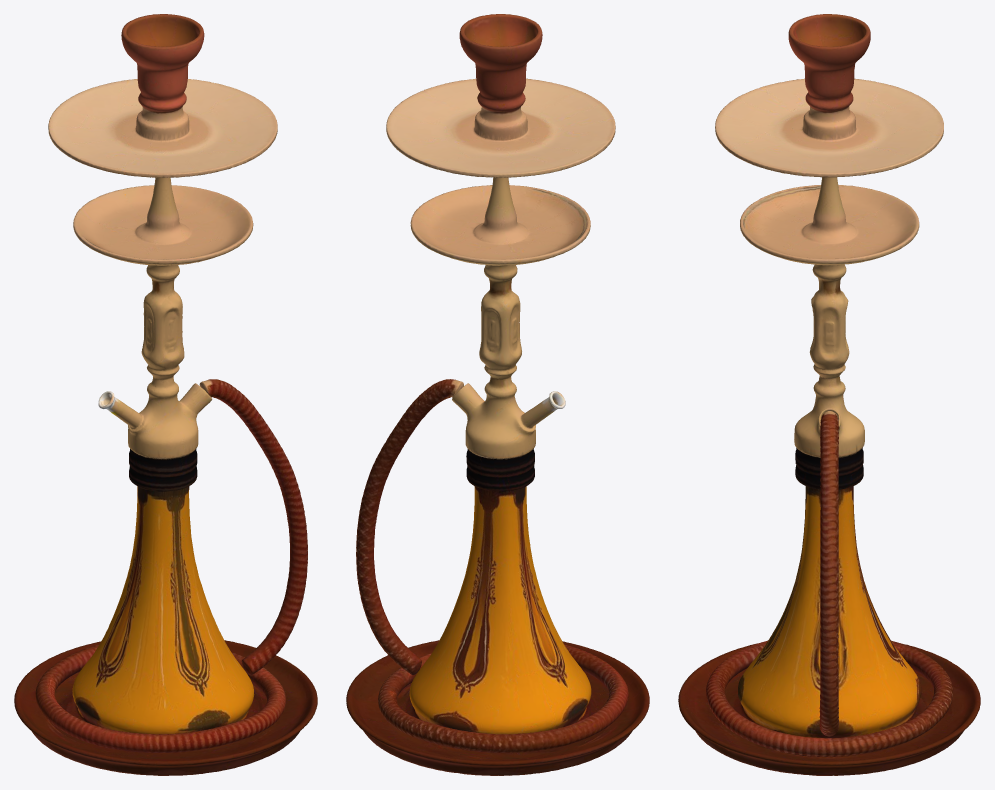
File: hookah_classic.glb
3 renders of one model, left to right at view 1: azimuth 30°, elevation 25°; view 2: azimuth 150°, elevation 25°; view 3: azimuth 270°, elevation 25°, orthographic.
Bounding box in the file's own units: 0.785 × 1.9 × 0.7581.
Materials: 1 (1 with a texture image).
